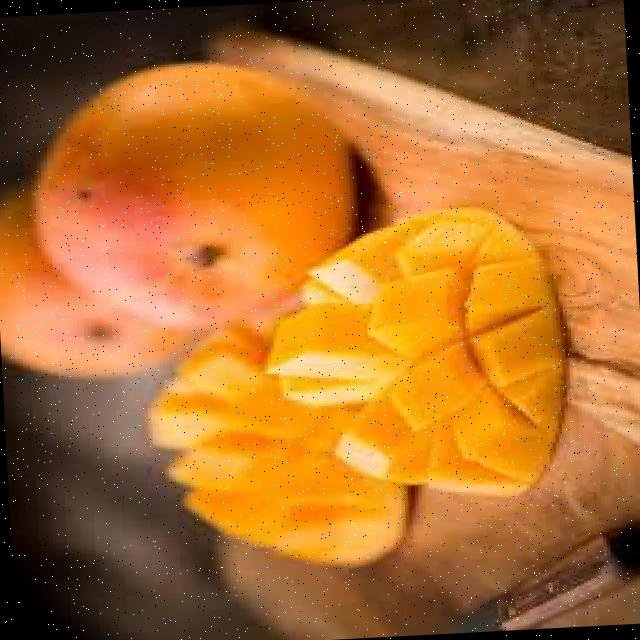mango: (265, 206, 567, 496)
